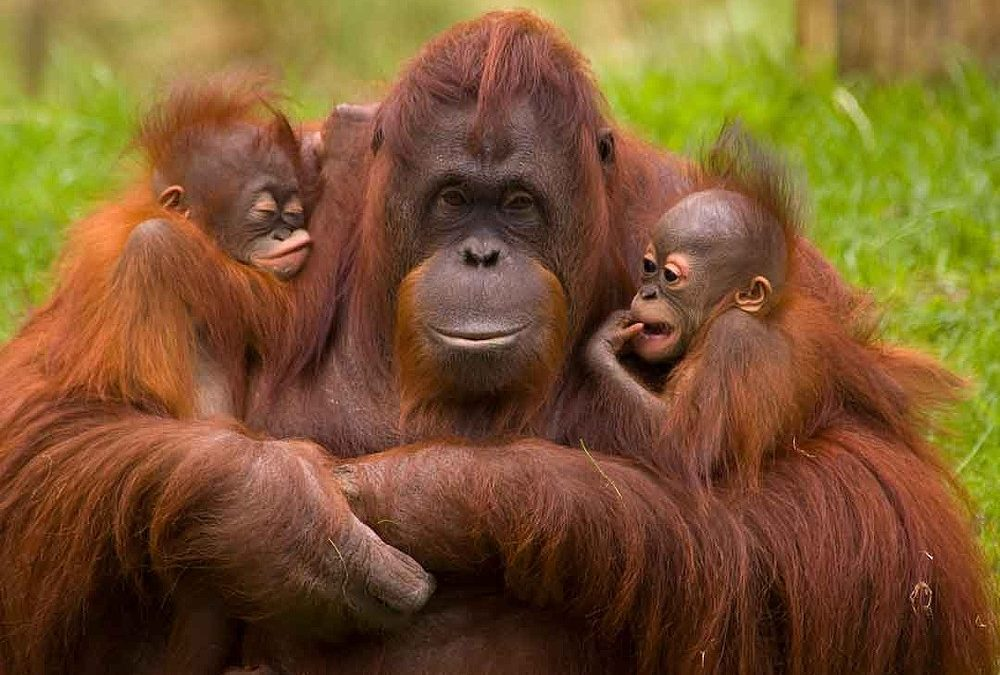Orangutan: (55, 15, 881, 640), (32, 95, 350, 450), (586, 168, 842, 469)
